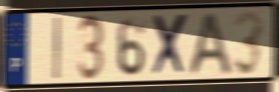3: (233, 8, 268, 77), (76, 12, 106, 84)
6: (115, 15, 147, 78)
A: (185, 10, 235, 79)
I: (52, 16, 63, 82)
X: (151, 11, 190, 79)
